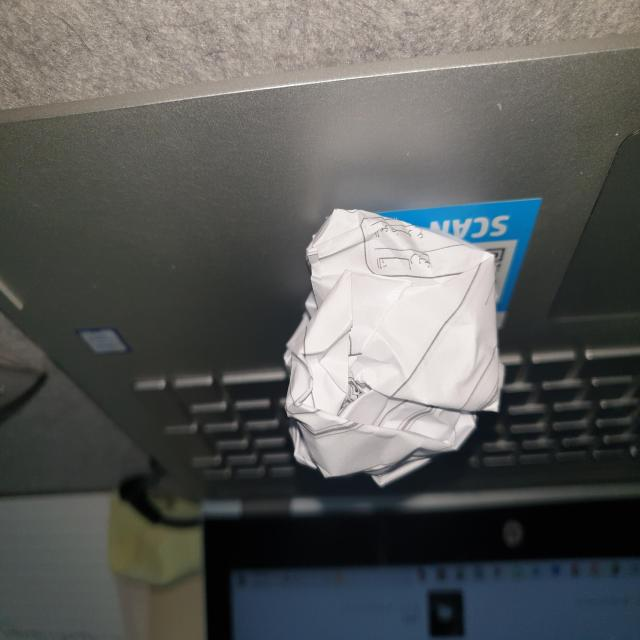kertas: (274, 190, 508, 494)
